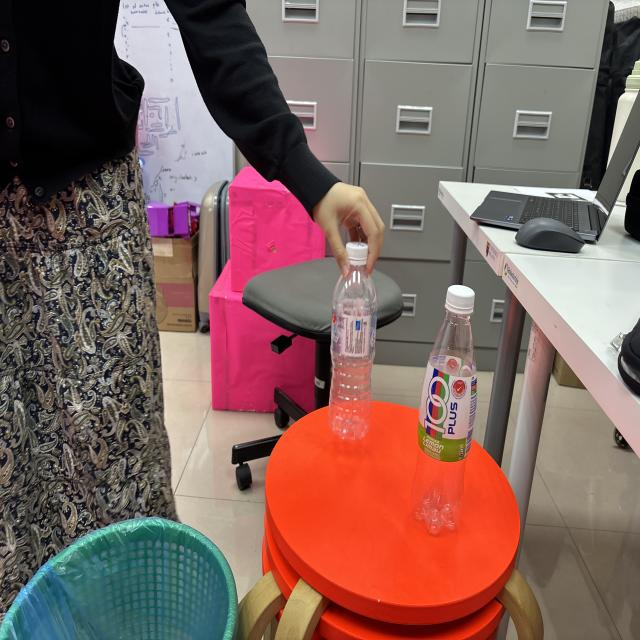dustbin: (0, 510, 242, 640)
plastic_bottle: (406, 276, 486, 545), (326, 236, 380, 453)
